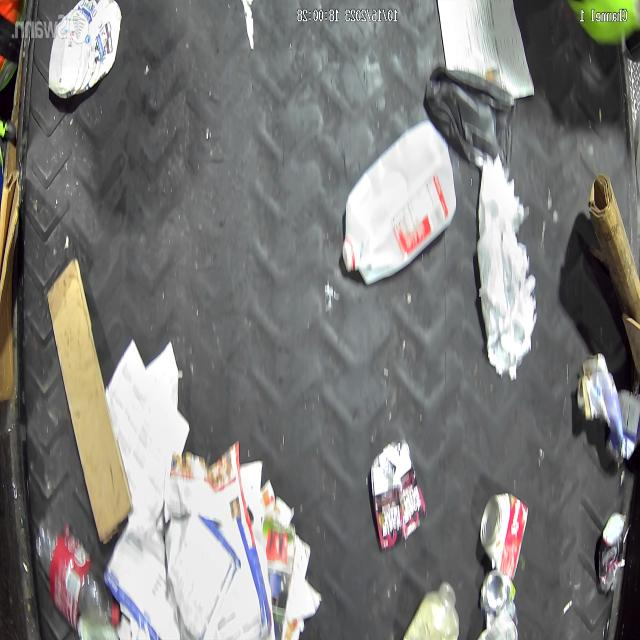can: (479, 492, 529, 581), (480, 571, 519, 630), (598, 512, 622, 593)
milk_jug: (341, 121, 457, 285), (47, 0, 121, 99)
non_white_jug: (576, 356, 640, 464)
plastic_bottle: (34, 511, 121, 627), (404, 581, 459, 640)
